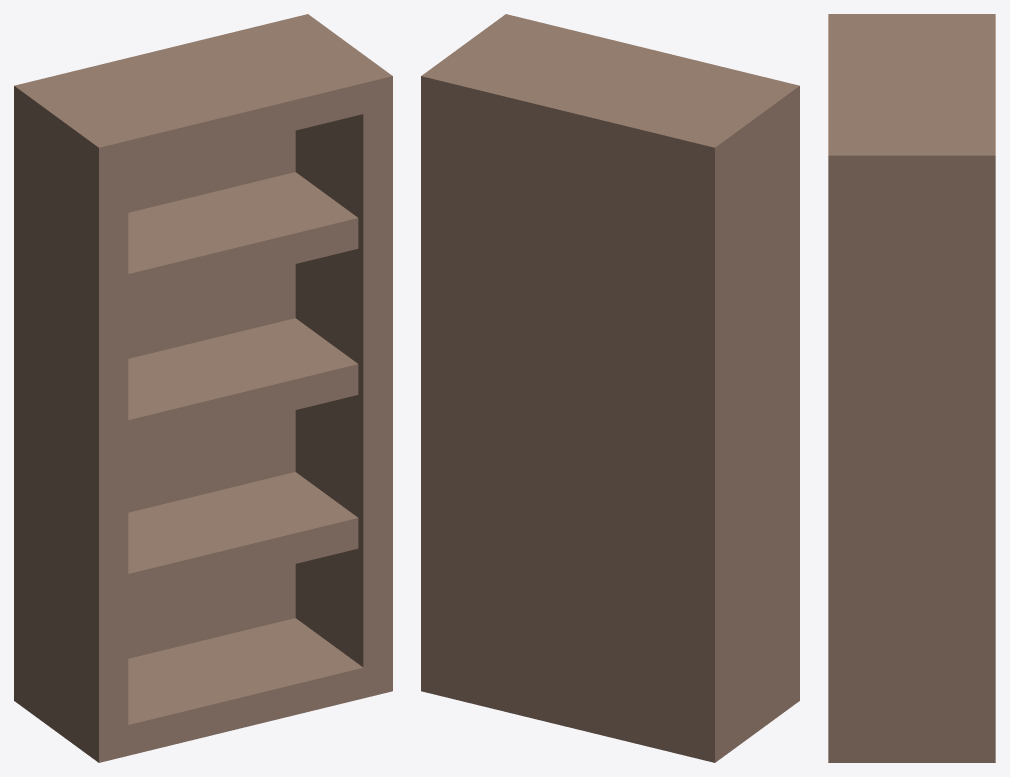
Rendered from BOOKSHELF.fbx.
3 renders of one model, left to right at view 1: azimuth 30°, elevation 25°; view 2: azimuth 150°, elevation 25°; view 3: azimuth 270°, elevation 25°, orthographic.
Parts seen in each view (by area): view 1: Cube, Cube.001, Cube.002, Cube.003; view 2: Cube; view 3: Cube.
Boxes of the visible parts, x1,y1,x2,y2 form: Cube: (14,14,392,762); Cube.001: (128,318,358,450); Cube.002: (128,472,358,604); Cube.003: (128,172,358,304); Cube: (421,14,799,762); Cube: (828,14,995,762).
Size of the model in its own units: 100 by 200 by 50.
